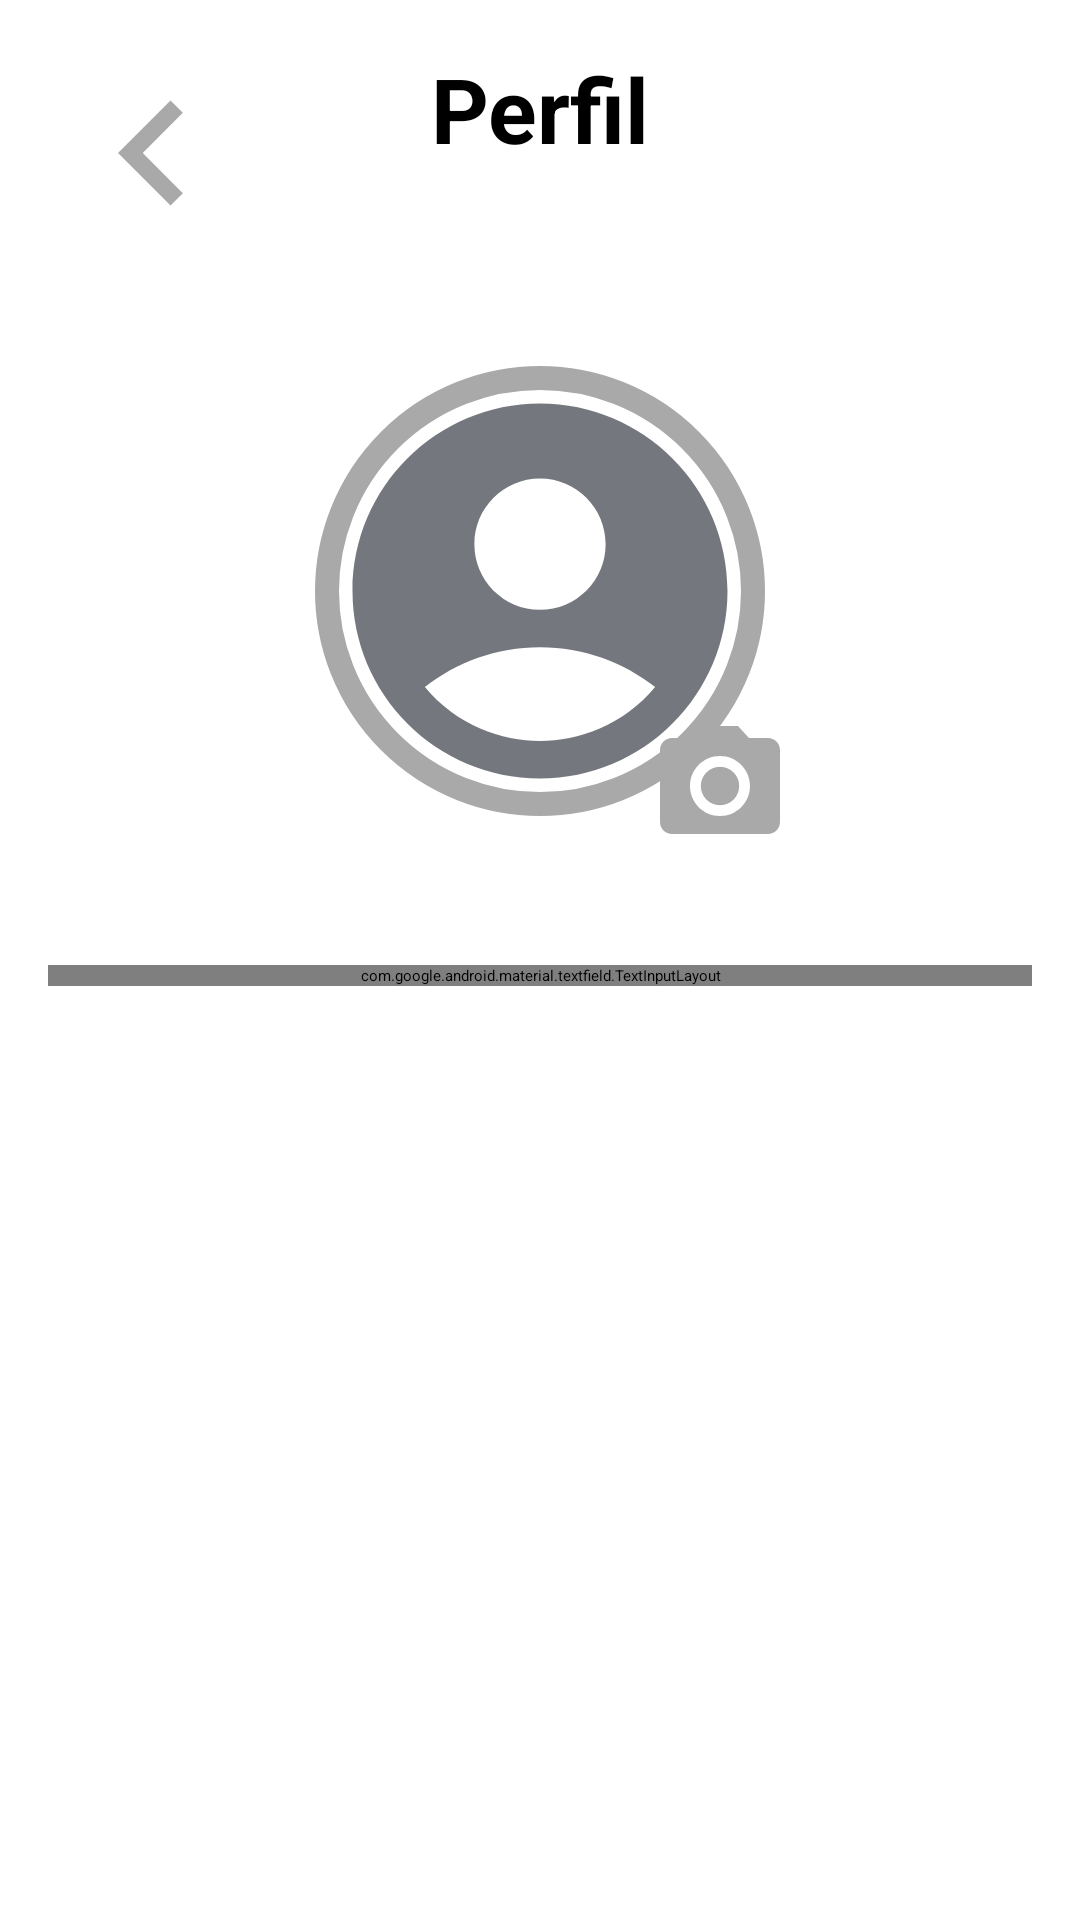

Named icons in this screenshot (1080 × 1920) and their centers, [x,y]:
arrow back: [150,153]
